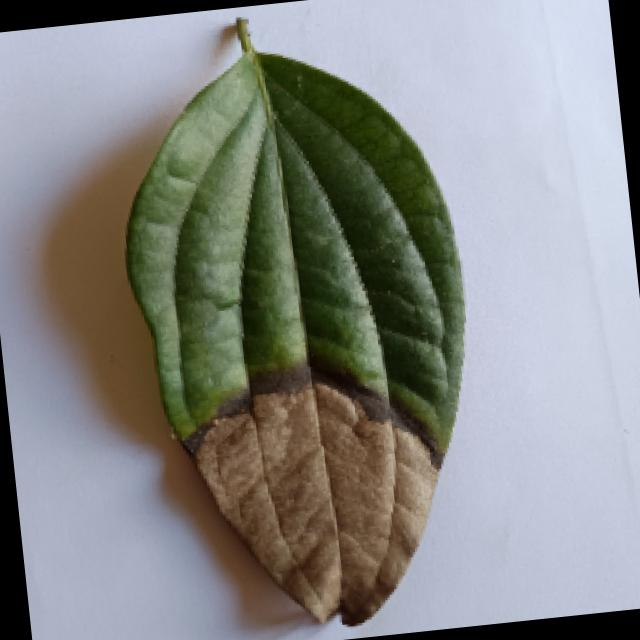footrot: (25, 6, 526, 640)
